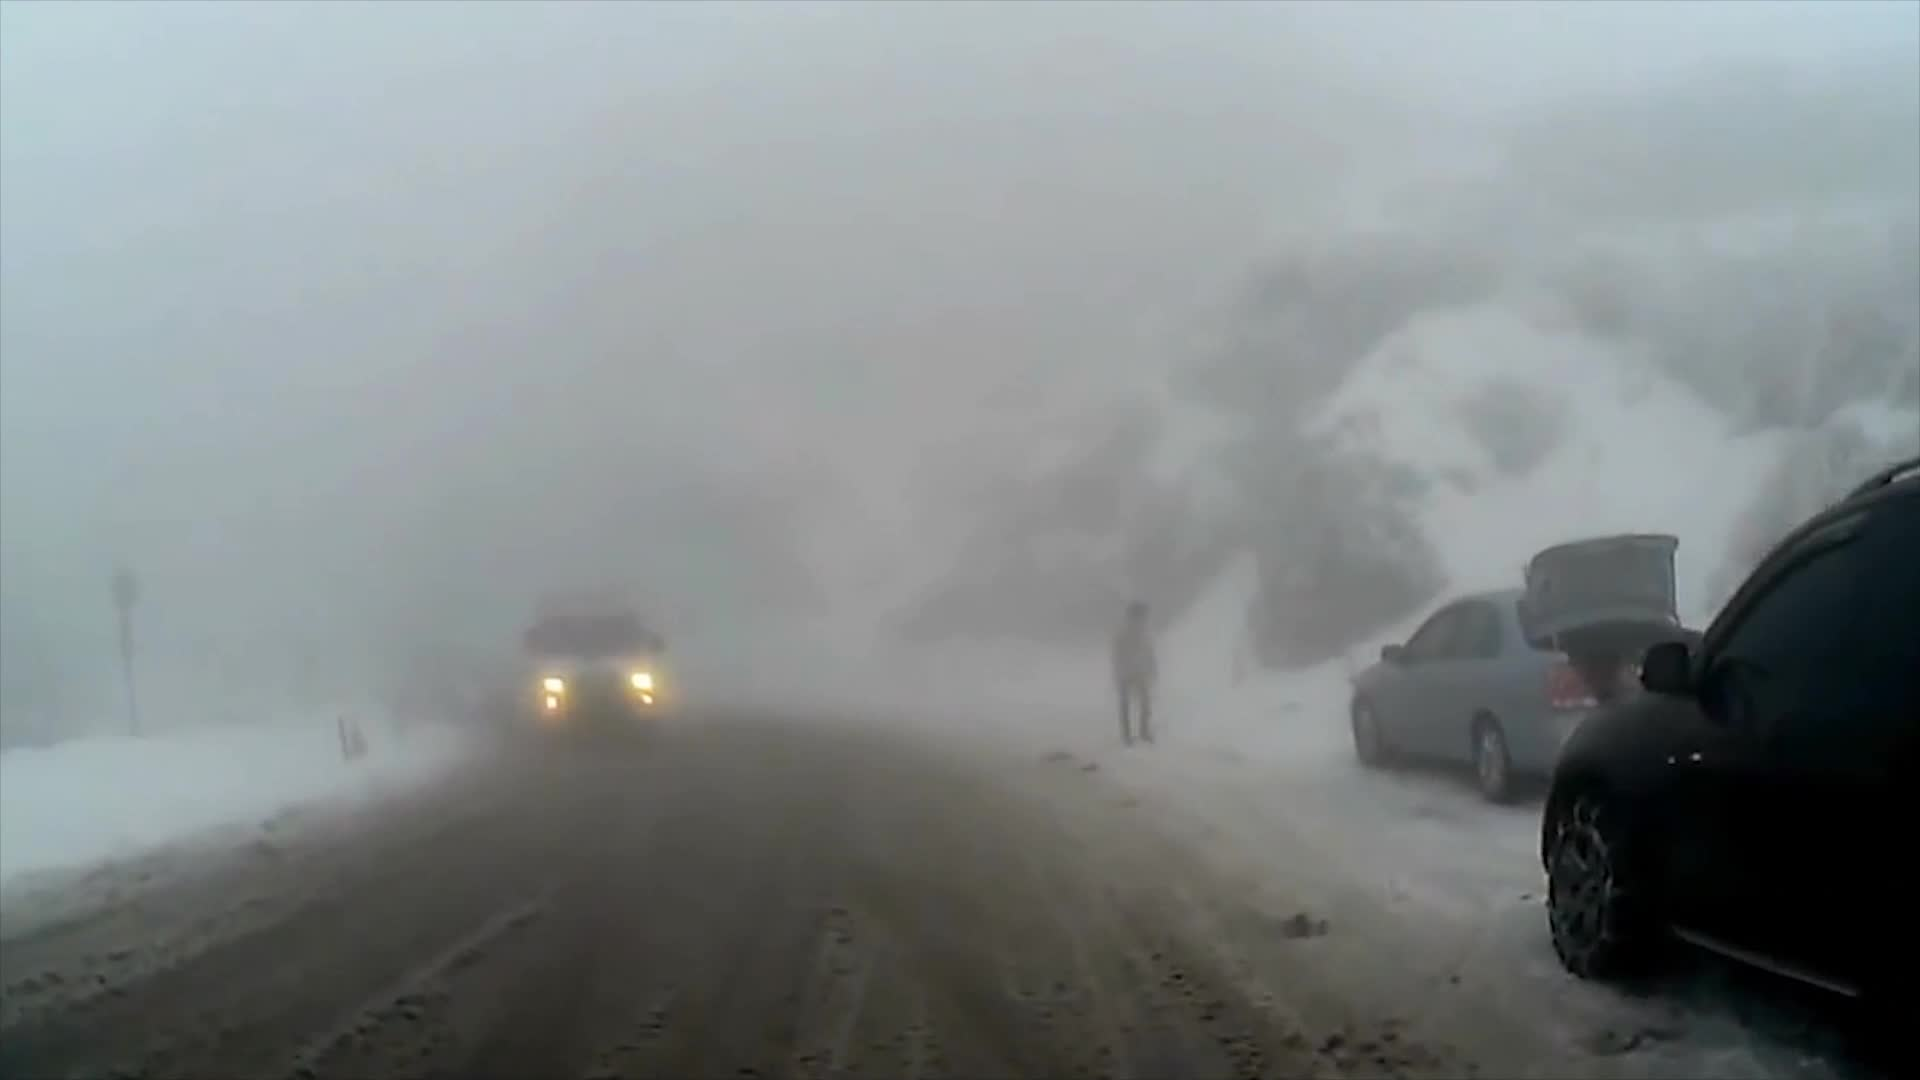pedestrian: (1111, 605, 1160, 745)
vehicle: (1539, 452, 1920, 1080), (1347, 528, 1731, 810), (517, 591, 666, 752)
